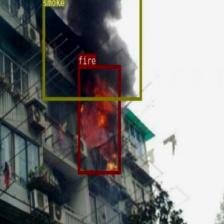fire: (78, 65, 120, 173)
smoke: (42, 0, 141, 100)
